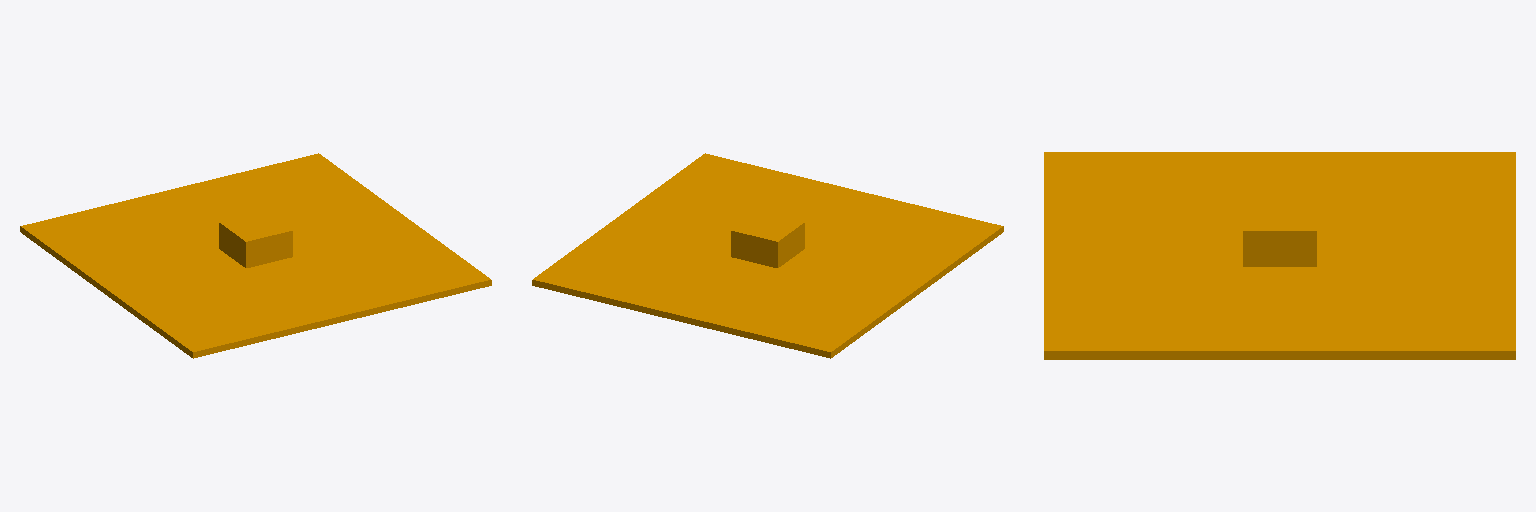
URDF robot description (climb_14_boxes):
<?xml version="1.0"?>
<robot name="climb_14_boxes">
  <link name="multi_boxes_link">
    <visual>
      <origin xyz="0 0 0" rpy="0 0 0"/>
      <geometry>
        <mesh filename="box_models/box1.obj" scale="0.585938 0.585938 0.585938"/>
      </geometry>
    </visual>
    <visual>
      <origin xyz="0 0 0" rpy="0 0 0"/>
      <geometry>
        <mesh filename="box_models/box2.obj" scale="0.7415730337078652 0.7415730337078652 0.7415730337078652"/>
      </geometry>
    </visual>
    <collision>
      <origin xyz="0 0 0" rpy="0 0 0"/>
      <geometry>
        <mesh filename="box_models/box1.obj" scale="0.585938 0.585938 0.585938"/>
      </geometry>
    </collision>
    <collision>
      <origin xyz="0 0 0" rpy="0 0 0"/>
      <geometry>
        <mesh filename="box_models/box2.obj" scale="0.7415730337078652 0.7415730337078652 0.7415730337078652"/>
      </geometry>
    </collision>
    <inertial>
      <origin xyz="0 0 0" rpy="0 0 0"/>
      <mass value="1.0"/>
      <inertia ixx="1.0" ixy="0.0" ixz="0.0" iyy="1.0" iyz="0.0" izz="1.0"/>
    </inertial>
  </link>
</robot>

--- Facts derived from the render (not from the file) ---
The picture shows the robot from 3 angles, left to right: view 1: azimuth 30°, elevation 25°; view 2: azimuth 150°, elevation 25°; view 3: azimuth 270°, elevation 25°; orthographic projection.
Model climb_14_boxes with 1 links and 0 joints (none), rooted at multi_boxes_link, posed all joints at 0.
Links seen in each view (by area): view 1: multi_boxes_link; view 2: multi_boxes_link; view 3: multi_boxes_link.
Boxes of the visible links, x1,y1,x2,y2 form: multi_boxes_link: (20, 153, 491, 358); multi_boxes_link: (532, 153, 1003, 358); multi_boxes_link: (1044, 152, 1515, 359).
Bounding box of the posed robot: 3.71 × 3.71 × 0.3906 m (x, y, z).
2 mesh visuals loaded from 2 distinct referenced files (2 OBJ).
